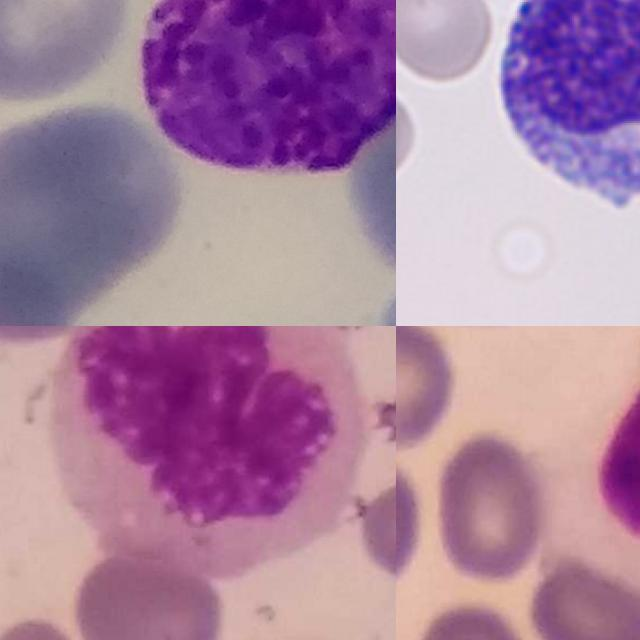Basophil: (140, 0, 396, 178)
Lymphocyte: (485, 0, 640, 222), (547, 356, 640, 593)
Monocyte: (43, 326, 368, 559)
RBC: (396, 0, 497, 87), (396, 73, 421, 190)
